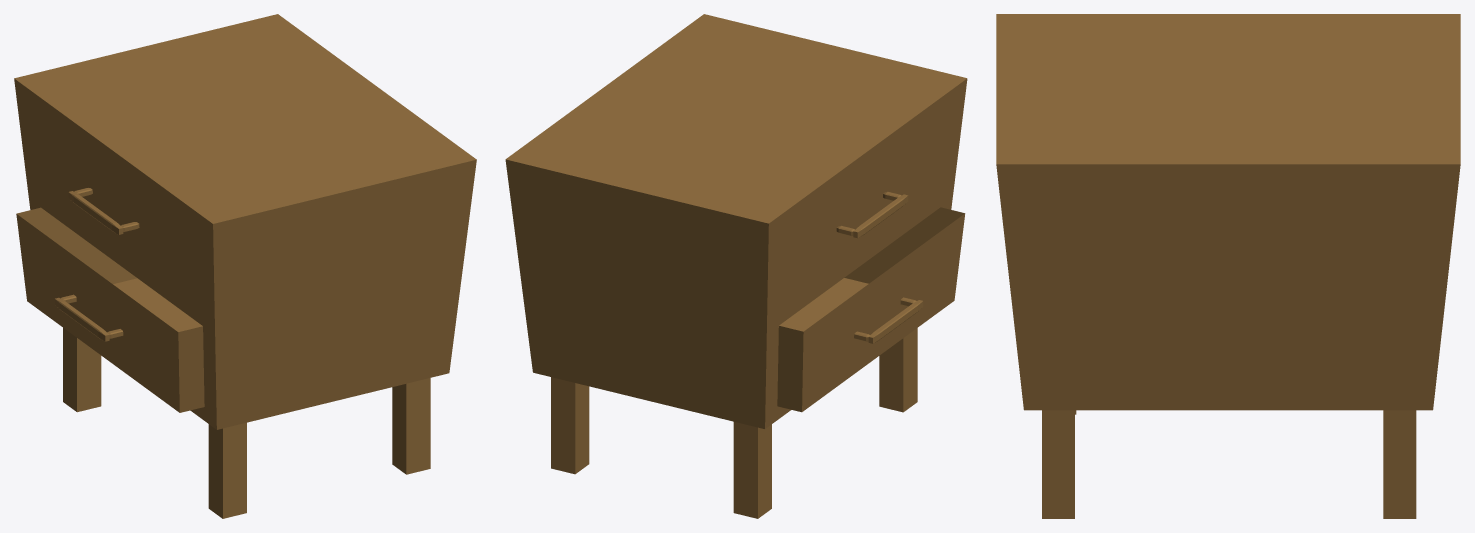
File: Nachttisch.fbx
The picture shows the model from 3 angles, left to right: view 1: azimuth 30°, elevation 25°; view 2: azimuth 150°, elevation 25°; view 3: azimuth 270°, elevation 25°; orthographic projection. The views are drawn at different scales.
Parts seen in each view (by area): view 1: Nachttisch; view 2: Nachttisch; view 3: Nachttisch.
Part boxes in pixels (bbox=[...]): Nachttisch: bbox=[14, 14, 476, 518]; Nachttisch: bbox=[505, 14, 967, 518]; Nachttisch: bbox=[996, 14, 1460, 518].
Size of the model in its own units: 125 by 128 by 145.
